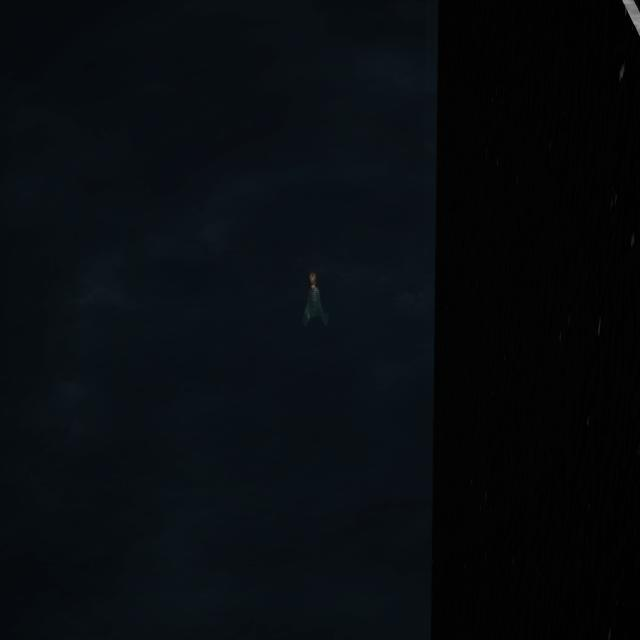Human: (298, 266, 332, 336)
